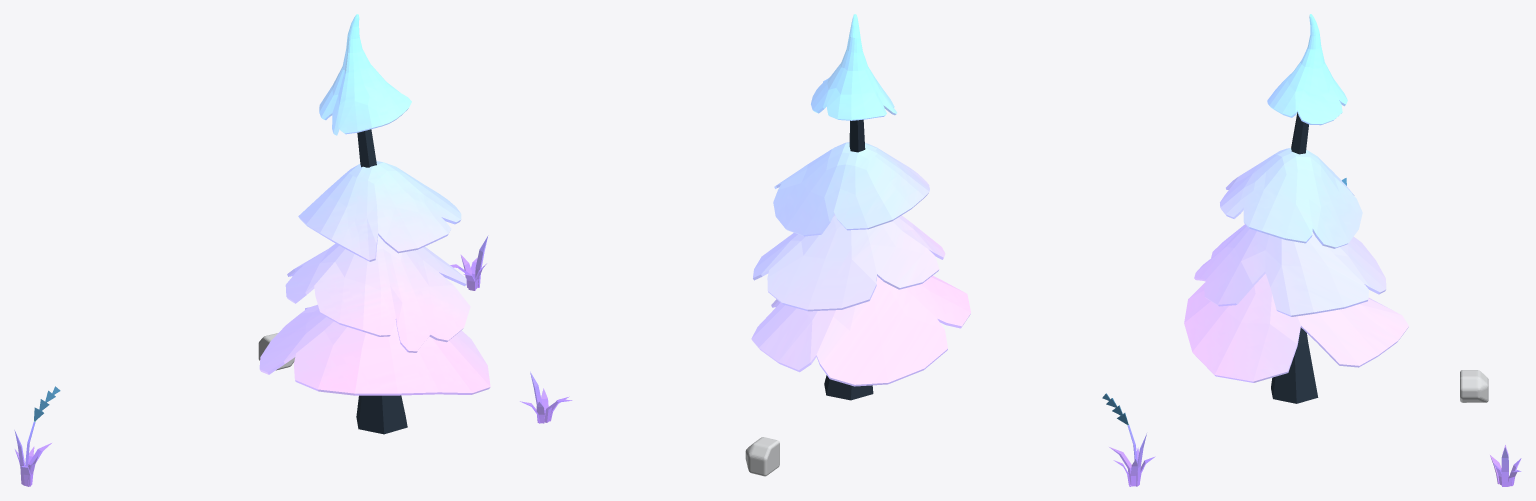
File: tree1.glb
3 renders of one model, left to right at view 1: azimuth 30°, elevation 25°; view 2: azimuth 150°, elevation 25°; view 3: azimuth 270°, elevation 25°, orthographic. The views are drawn at different scales.
Parts seen in each view (by area): view 1: PineTree_Autumn_2, plant.004, plant.005; view 2: PineTree_Autumn_2, Cube, plant.004, plant.005; view 3: PineTree_Autumn_2, Cube, plant.005.
Part boxes in pixels (x1,y1,x2,y2): PineTree_Autumn_2: (259,14,490,434); plant.004: (14,386,60,486); plant.005: (450,235,488,290); PineTree_Autumn_2: (751,14,970,400); Cube: (745,437,779,476); plant.004: (1102,393,1155,486); plant.005: (520,371,572,423); PineTree_Autumn_2: (1184,14,1408,403); Cube: (1460,370,1488,402); plant.005: (1490,445,1521,486).
Bounding box in the file's own units: 41.69 × 29.33 × 23.5.
7 materials, 3 textured.
